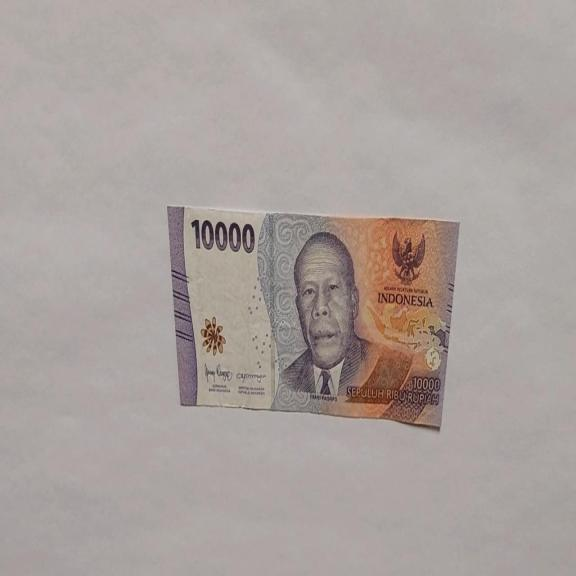Kertas: (167, 204, 460, 430), (190, 216, 256, 254)
